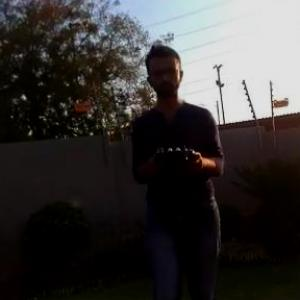follow: (127, 34, 231, 299)
